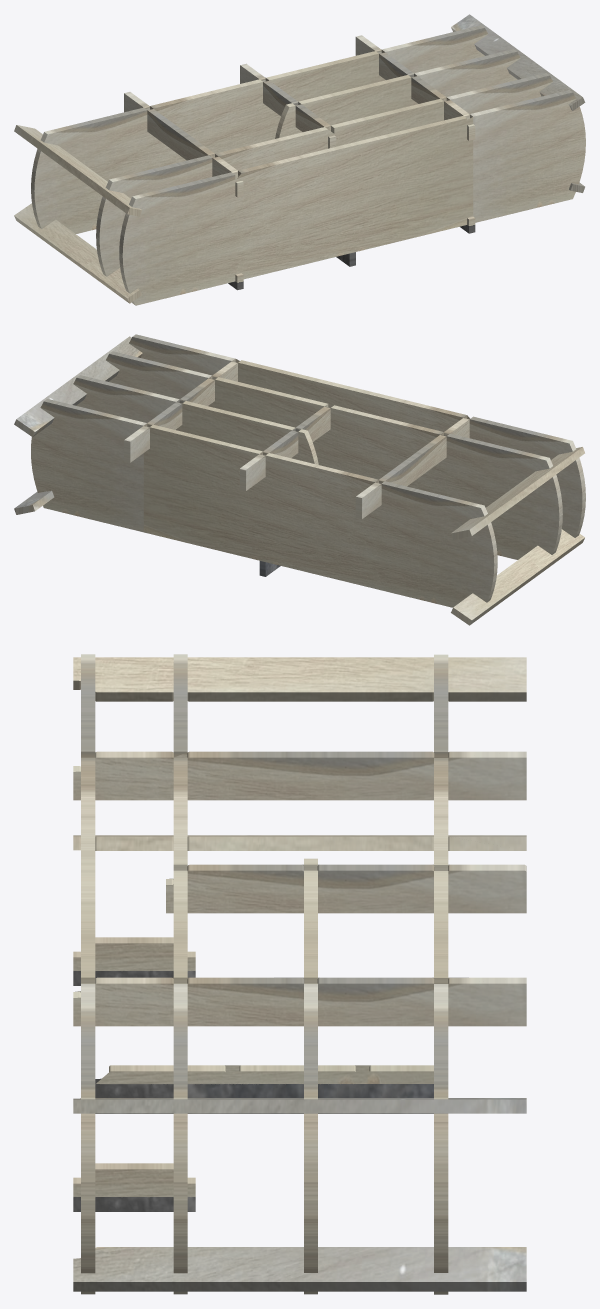
Rendered from NODO_RACK_CONTROL_KIRI_100_V5.glb.
3 renders of one model, top to bottom at view 1: azimuth 30°, elevation 25°; view 2: azimuth 150°, elevation 25°; view 3: azimuth 270°, elevation 25°, orthographic. The views are drawn at different scales.
Visible parts, largest first — view 1: A_KIRI_CONTROL, C_KIRI_CONTROL, B_KIRI_CONTROL, D_KIRI_CONTROL, F_left_front_KIRI_CONTROL, F_rear_KIRI_CONTROL, G_right_rear_KIRI_CONTROL, G_rear_KIRI_CONTROL, F_left_rear_KIRI_CONTROL, H_rear_KIRI_CONTROL; view 2: C_KIRI_CONTROL, B_KIRI_CONTROL, A_KIRI_CONTROL, D_KIRI_CONTROL, F_left_front_KIRI_CONTROL, F_rear_KIRI_CONTROL, G_right_rear_KIRI_CONTROL, G_rear_KIRI_CONTROL, F_left_rear_KIRI_CONTROL, H_rear_KIRI_CONTROL, G_right_front_KIRI_CONTROL; view 3: F_rear_KIRI_CONTROL, G_rear_KIRI_CONTROL, G_right_front_KIRI_CONTROL, F_left_rear_KIRI_CONTROL, H_rear_KIRI_CONTROL, H_front_KIRI_CONTROL, A_KIRI_CONTROL, C_KIRI_CONTROL, B_KIRI_CONTROL, G_right_rear_KIRI_CONTROL, F_left_front_KIRI_CONTROL, D_KIRI_CONTROL (+2 smaller).
Part boxes in pixels (left/top/right/bottom): A_KIRI_CONTROL: left=119, top=90, right=585, bottom=305; C_KIRI_CONTROL: left=31, top=25, right=487, bottom=233; B_KIRI_CONTROL: left=96, top=73, right=552, bottom=276; D_KIRI_CONTROL: left=275, top=49, right=520, bottom=138; F_left_front_KIRI_CONTROL: left=14, top=203, right=141, bottom=303; F_rear_KIRI_CONTROL: left=124, top=92, right=243, bottom=197; G_right_rear_KIRI_CONTROL: left=451, top=14, right=585, bottom=110; G_rear_KIRI_CONTROL: left=355, top=35, right=475, bottom=140; F_left_rear_KIRI_CONTROL: left=14, top=125, right=141, bottom=216; H_rear_KIRI_CONTROL: left=240, top=63, right=336, bottom=148; C_KIRI_CONTROL: left=31, top=399, right=497, bottom=607; B_KIRI_CONTROL: left=106, top=351, right=562, bottom=559; A_KIRI_CONTROL: left=129, top=334, right=585, bottom=537; D_KIRI_CONTROL: left=73, top=375, right=318, bottom=464; F_left_front_KIRI_CONTROL: left=451, top=529, right=584, bottom=625; F_rear_KIRI_CONTROL: left=355, top=418, right=469, bottom=519; G_right_rear_KIRI_CONTROL: left=14, top=336, right=142, bottom=437; G_rear_KIRI_CONTROL: left=124, top=361, right=237, bottom=462; F_left_rear_KIRI_CONTROL: left=451, top=447, right=584, bottom=539; H_rear_KIRI_CONTROL: left=240, top=406, right=330, bottom=490; G_right_front_KIRI_CONTROL: left=14, top=490, right=54, bottom=514; F_rear_KIRI_CONTROL: left=73, top=751, right=526, bottom=800; G_rear_KIRI_CONTROL: left=73, top=977, right=526, bottom=1026; G_right_front_KIRI_CONTROL: left=73, top=1247, right=526, bottom=1291; F_left_rear_KIRI_CONTROL: left=73, top=657, right=526, bottom=701; H_rear_KIRI_CONTROL: left=166, top=864, right=526, bottom=913; H_front_KIRI_CONTROL: left=95, top=1065, right=433, bottom=1113; A_KIRI_CONTROL: left=81, top=654, right=95, bottom=1294; C_KIRI_CONTROL: left=434, top=654, right=448, bottom=1294; B_KIRI_CONTROL: left=173, top=654, right=187, bottom=1294; G_right_rear_KIRI_CONTROL: left=73, top=1098, right=526, bottom=1113; F_left_front_KIRI_CONTROL: left=73, top=835, right=526, bottom=850; D_KIRI_CONTROL: left=304, top=858, right=317, bottom=1294.
Bounding box in the file's own units: 1.36 × 0.342 × 0.578.
1 material, 1 textured.
